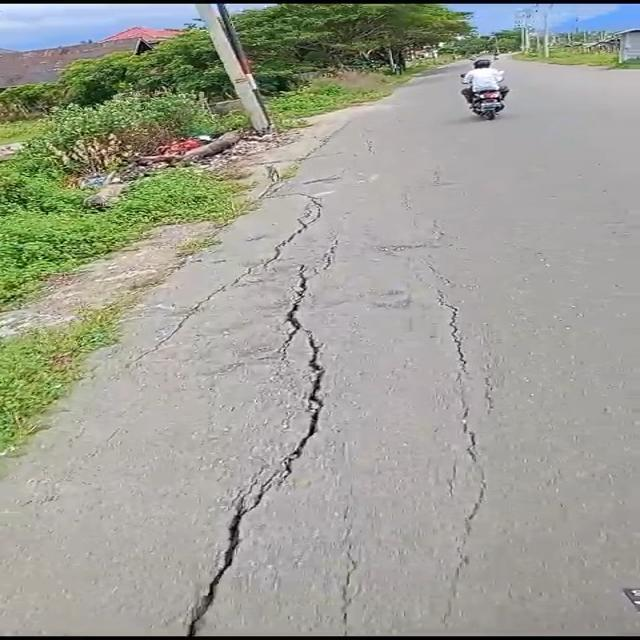Memanjang: (166, 249, 338, 639), (420, 269, 506, 640)
